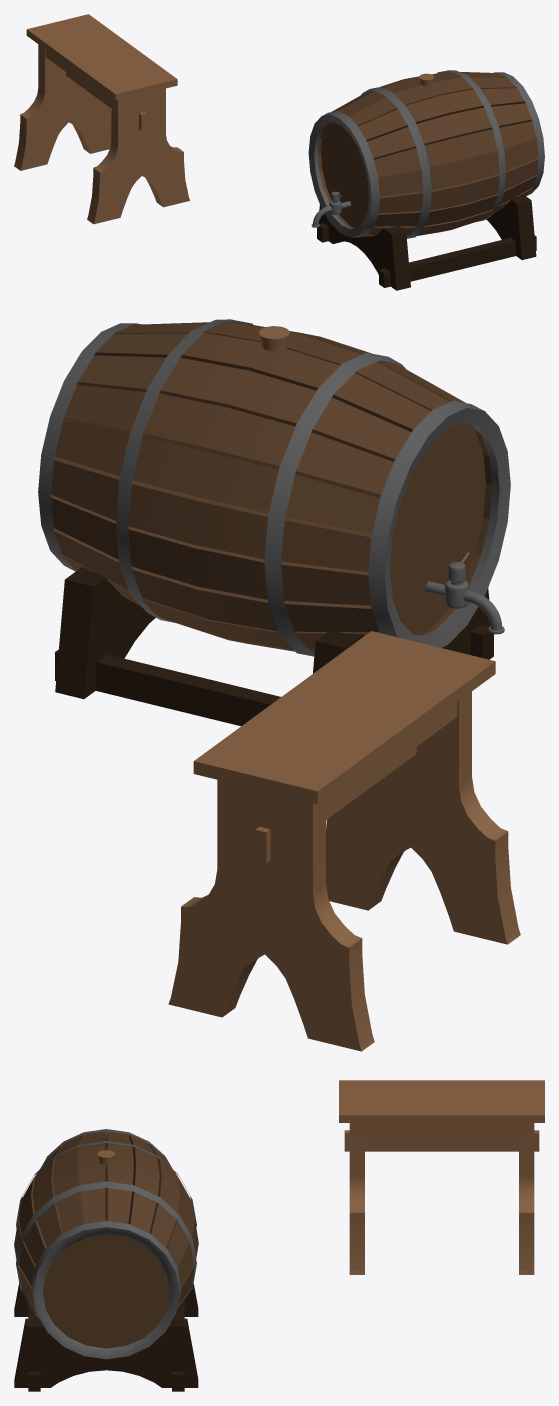
The model's file is BeerKeg_Model_Export.fbx.
3 renders of one model, top to bottom at view 1: azimuth 30°, elevation 25°; view 2: azimuth 150°, elevation 25°; view 3: azimuth 270°, elevation 25°, orthographic. The views are drawn at different scales.
Visible parts, largest first — view 1: pCylinder4, pCube13, pCube16, pCube19, polySurface3, pCube4, pCube5, pCube20, polySurface5, polySurface4, polySurface2, pCube18; view 2: pCylinder4, pCube19, pCube16, pCube13, polySurface3, pCube20, pCube6, polySurface5, polySurface4, polySurface2, pCube18, pCube4 (+2 smaller); view 3: pCylinder4, pCube16, pCube20, polySurface2, pCube15, pCube13, pCube19, pCube17, polySurface4, pCube4, polySurface5, pCube5 (+1 smaller).
Part boxes in pixels (<box>): pCylinder4: <box>318,71,538,236</box>; pCube13: <box>87,88,189,224</box>; pCube16: <box>26,14,177,100</box>; pCube19: <box>14,44,111,170</box>; polySurface3: <box>308,111,379,237</box>; pCube4: <box>319,205,410,290</box>; pCube5: <box>379,235,536,287</box>; pCube20: <box>486,194,536,259</box>; polySurface5: <box>361,87,431,238</box>; polySurface4: <box>437,70,505,221</box>; polySurface2: <box>493,72,544,196</box>; pCube18: <box>45,50,111,104</box>; pCylinder4: <box>51,321,492,653</box>; pCube19: <box>168,780,374,1051</box>; pCube16: <box>193,631,495,804</box>; pCube13: <box>326,691,520,944</box>; polySurface3: <box>368,400,510,647</box>; pCube20: <box>55,566,155,699</box>; pCube6: <box>55,649,280,726</box>; polySurface5: <box>264,352,406,656</box>; polySurface4: <box>115,319,253,622</box>; polySurface2: <box>38,323,140,571</box>; pCube18: <box>326,702,457,812</box>; pCube4: <box>313,588,490,673</box>; pCylinder4: <box>14,1131,198,1348</box>; pCube16: <box>339,1080,544,1122</box>; pCube20: <box>14,1318,198,1387</box>; polySurface2: <box>31,1221,181,1359</box>; pCube15: <box>344,1130,539,1151</box>; pCube13: <box>349,1123,364,1274</box>; pCube19: <box>519,1123,534,1274</box>; pCube17: <box>365,1123,518,1135</box>; polySurface4: <box>16,1181,196,1318</box>; pCube4: <box>14,1283,198,1316</box>; polySurface5: <box>16,1141,196,1228</box>; pCube5: <box>28,1301,40,1391</box>.
Size of the model in its own units: 11.99 by 6.14 by 15.11.
